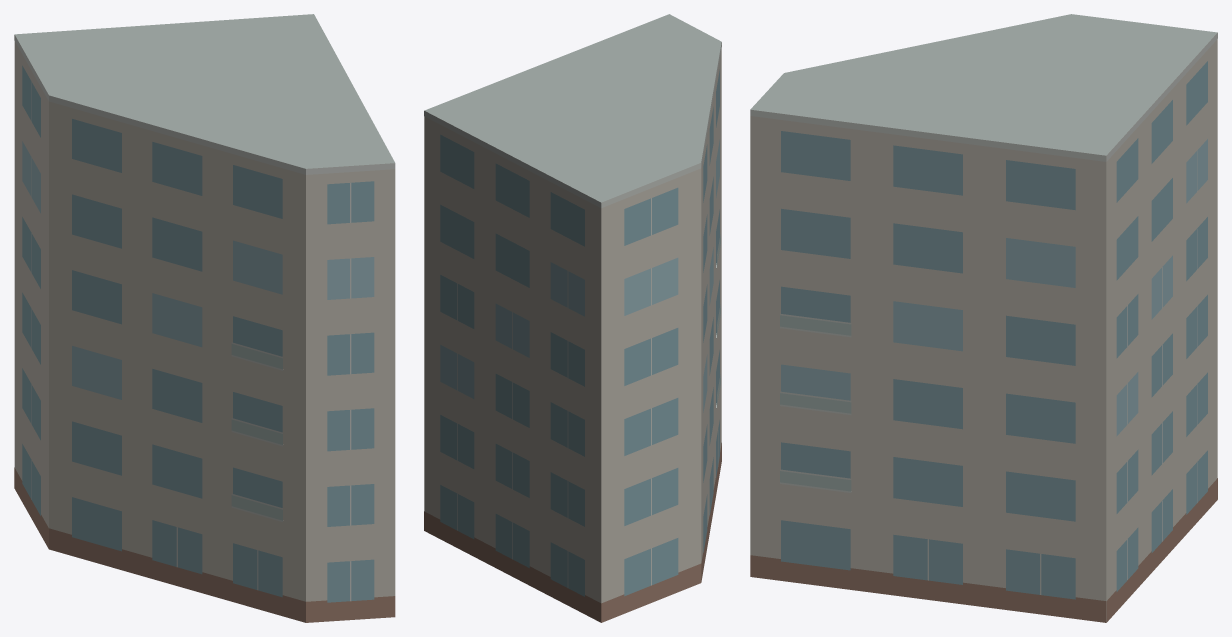
The model's file is survey-upis-32878267.glb.
3 renders of one model, left to right at view 1: azimuth 30°, elevation 25°; view 2: azimuth 150°, elevation 25°; view 3: azimuth 270°, elevation 25°, orthographic. The views are drawn at different scales.
Visible parts, largest first — view 1: survey-upis-32878267.tmp; view 2: survey-upis-32878267.tmp; view 3: survey-upis-32878267.tmp.
Part boxes in pixels (x1,y1,x2,y2): survey-upis-32878267.tmp: (14, 14, 395, 622); survey-upis-32878267.tmp: (424, 14, 721, 622); survey-upis-32878267.tmp: (750, 14, 1217, 622).
Size of the model in its own units: 11.91 by 18.3 by 16.61.
